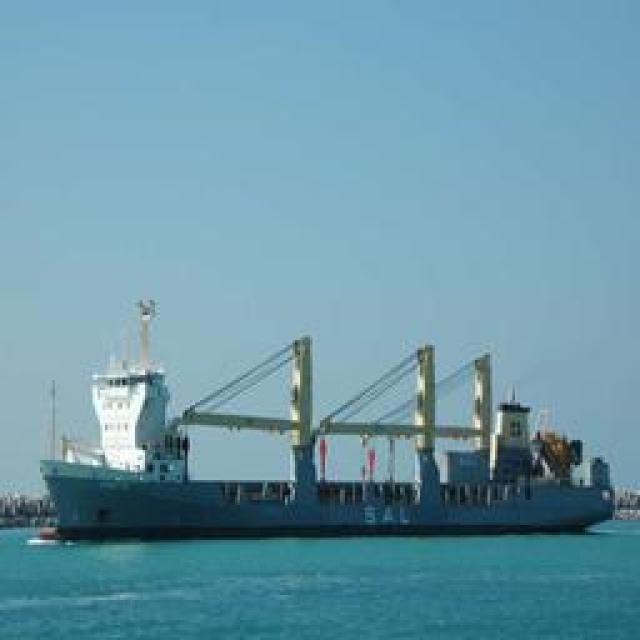CIV_Ship: (29, 310, 622, 540)
